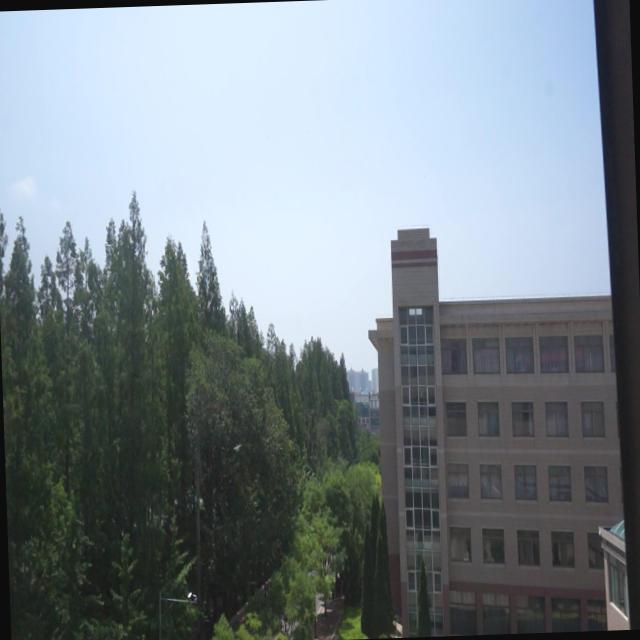drone: (232, 438, 242, 454)
